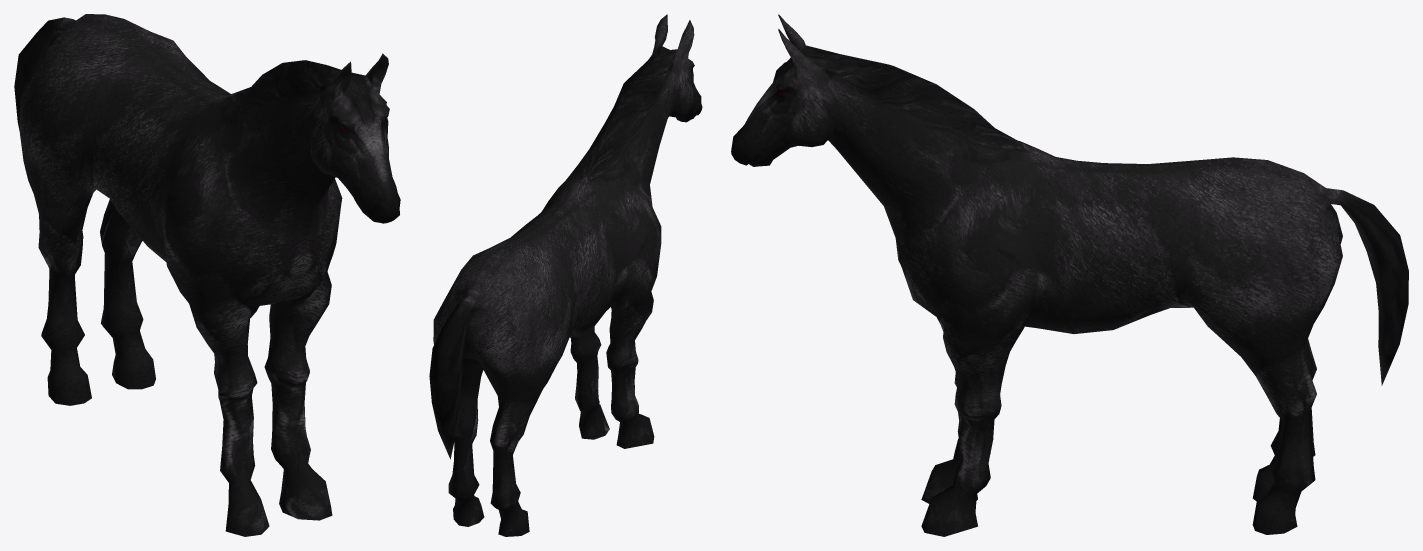
File: Horse6.glb
3 views of the same model, side by side, from view 1: azimuth 30°, elevation 25°; view 2: azimuth 150°, elevation 25°; view 3: azimuth 270°, elevation 25° (orthographic). The views are drawn at different scales.
Parts seen in each view (by area): view 1: Horse6; view 2: Horse6; view 3: Horse6.
Boxes of the visible parts, x1,y1,x2,y2 form: Horse6: [14, 14, 400, 536]; Horse6: [429, 14, 702, 536]; Horse6: [731, 14, 1408, 536].
Size of the model in its own units: 0.6161 by 1.93 by 2.41.
Materials: 1 (1 with a texture image).
